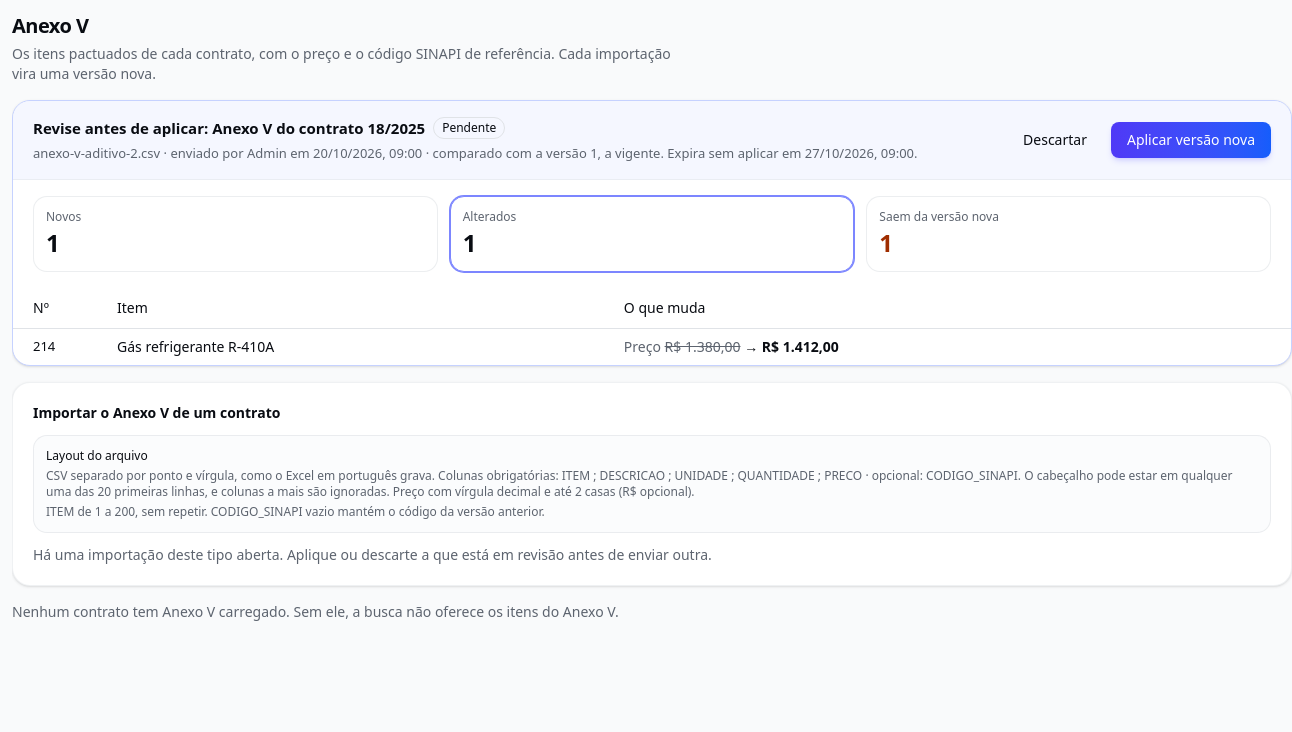
it: revisão da importação › os resumos filtram a tabela: removidos mostram o que sai da versão nova
The image size is (1292, 732).
Click the button "Saem da versão nova 1" at point(939, 216), box [866, 196, 1271, 272]
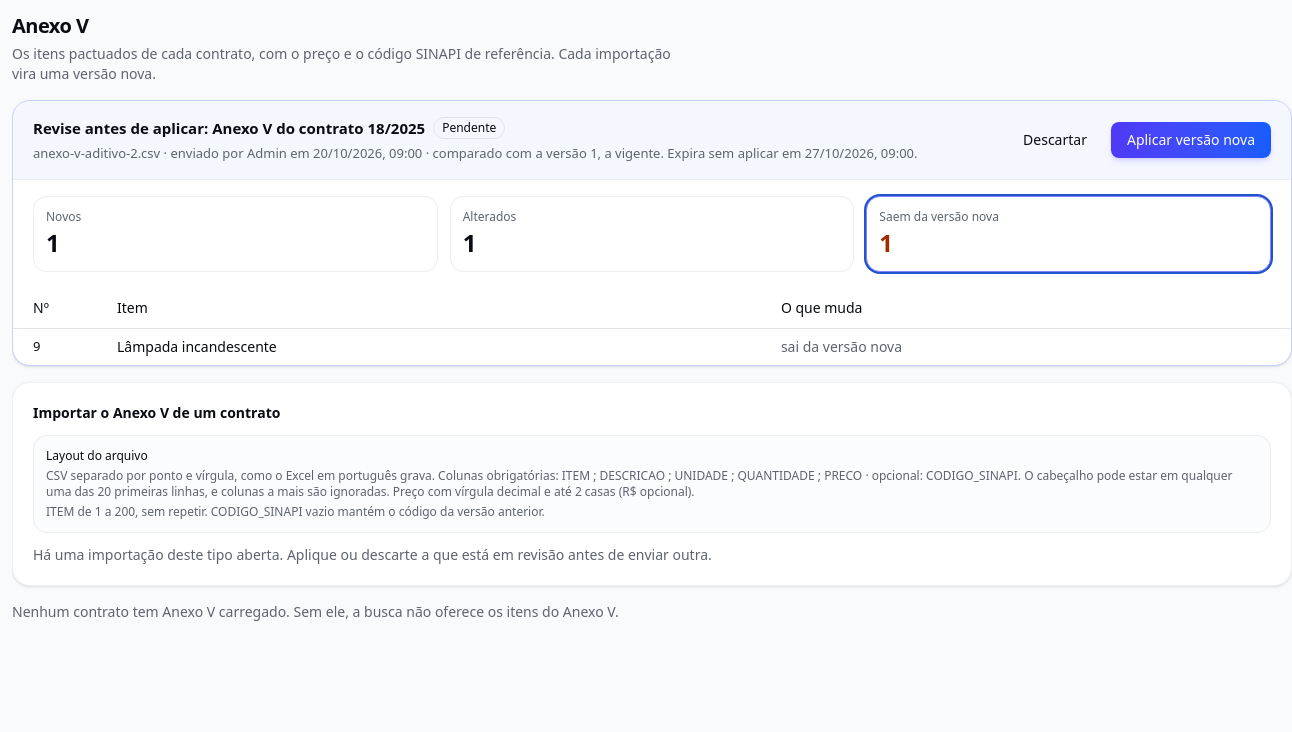
Now the row "9 Lâmpada incandescente sai da versão nova" is shown, box [13, 328, 1291, 364]
Now the cell "Gás refrigerante" is gone
